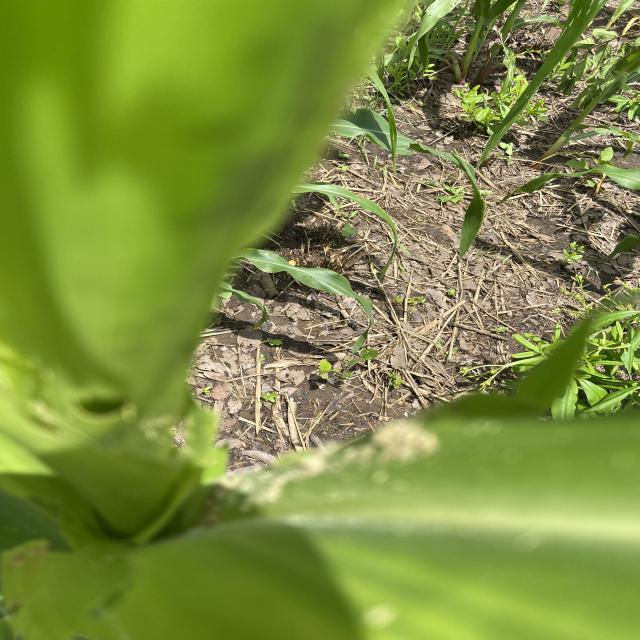fall-armyworm-egg: (271, 374, 478, 515)
fall-armyworm-larval-damage: (0, 310, 190, 486), (0, 520, 150, 591)
